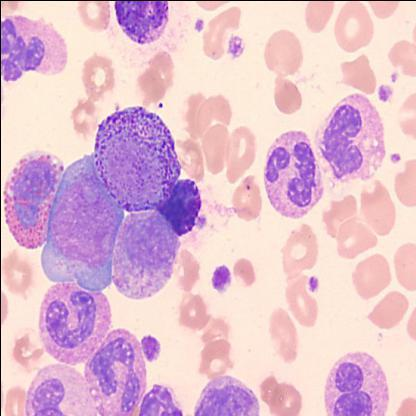Promyelocyte: (92, 100, 183, 212)
Segmented neutrophil: (82, 319, 150, 415)
